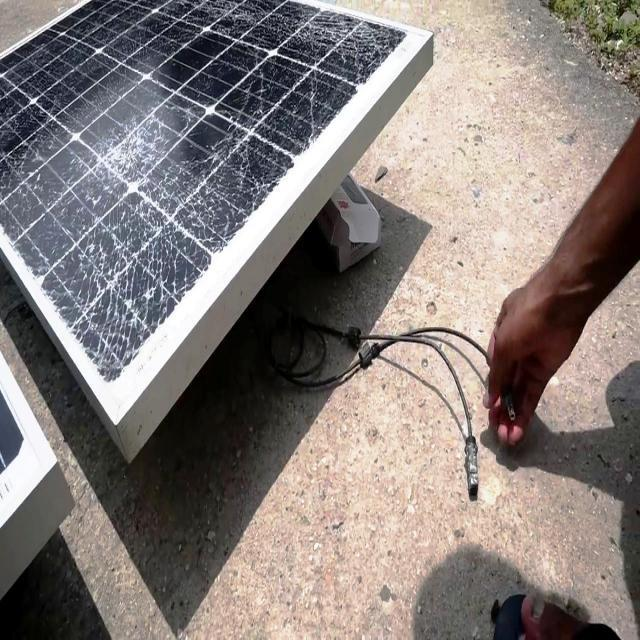faulty: (1, 1, 414, 380)
